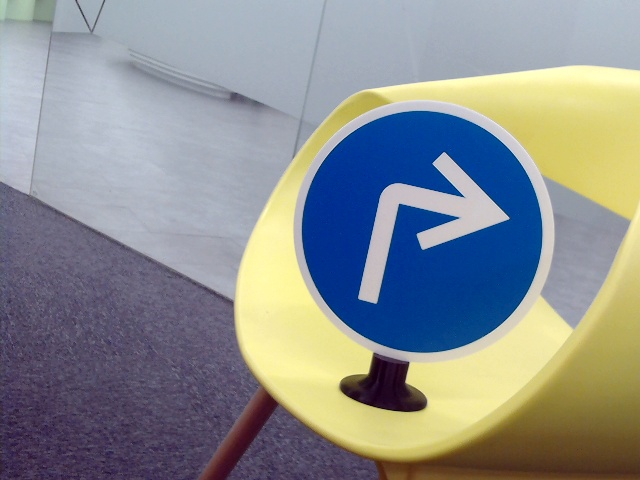turn_right: (354, 154, 509, 311)
